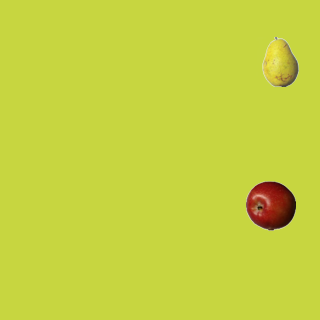Apple Braeburn: (245, 180, 295, 230)
Pear Monster: (255, 36, 305, 86)
